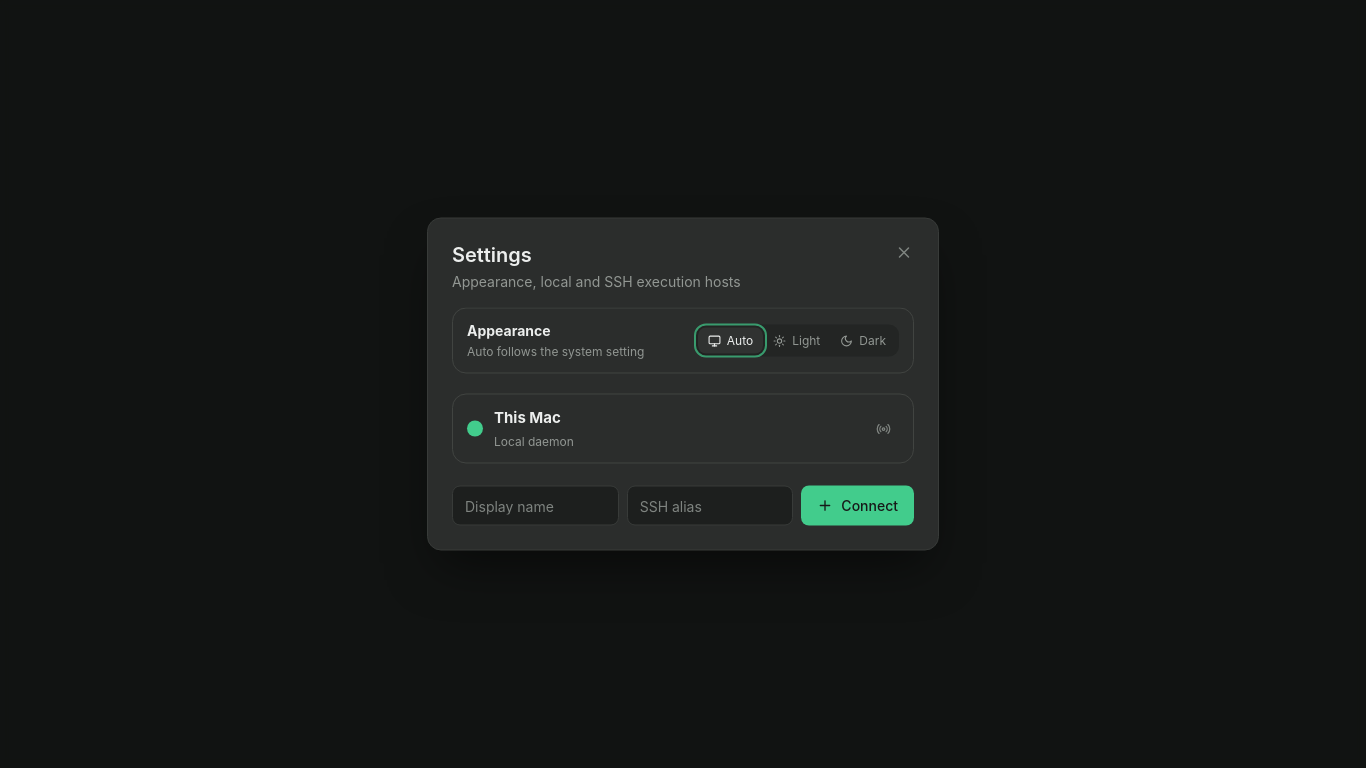
Test: ConnectionsDialog › reports a creation failure
The width and height of the screenshot is (1366, 768).
Type "nope" into the field labelled "SSH alias" at (710, 506), box [627,486,793,526]
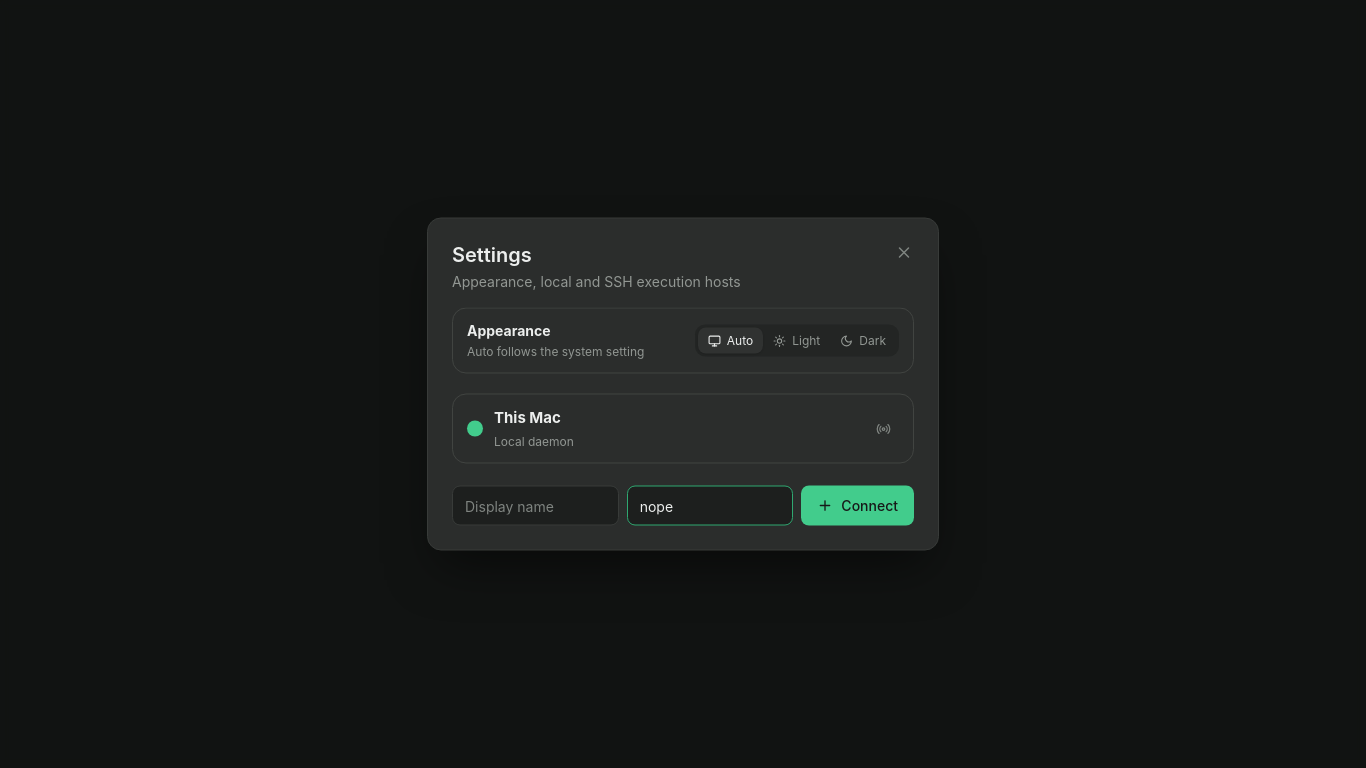
Click the button "Connect" at (858, 506), box [801,486,914,526]
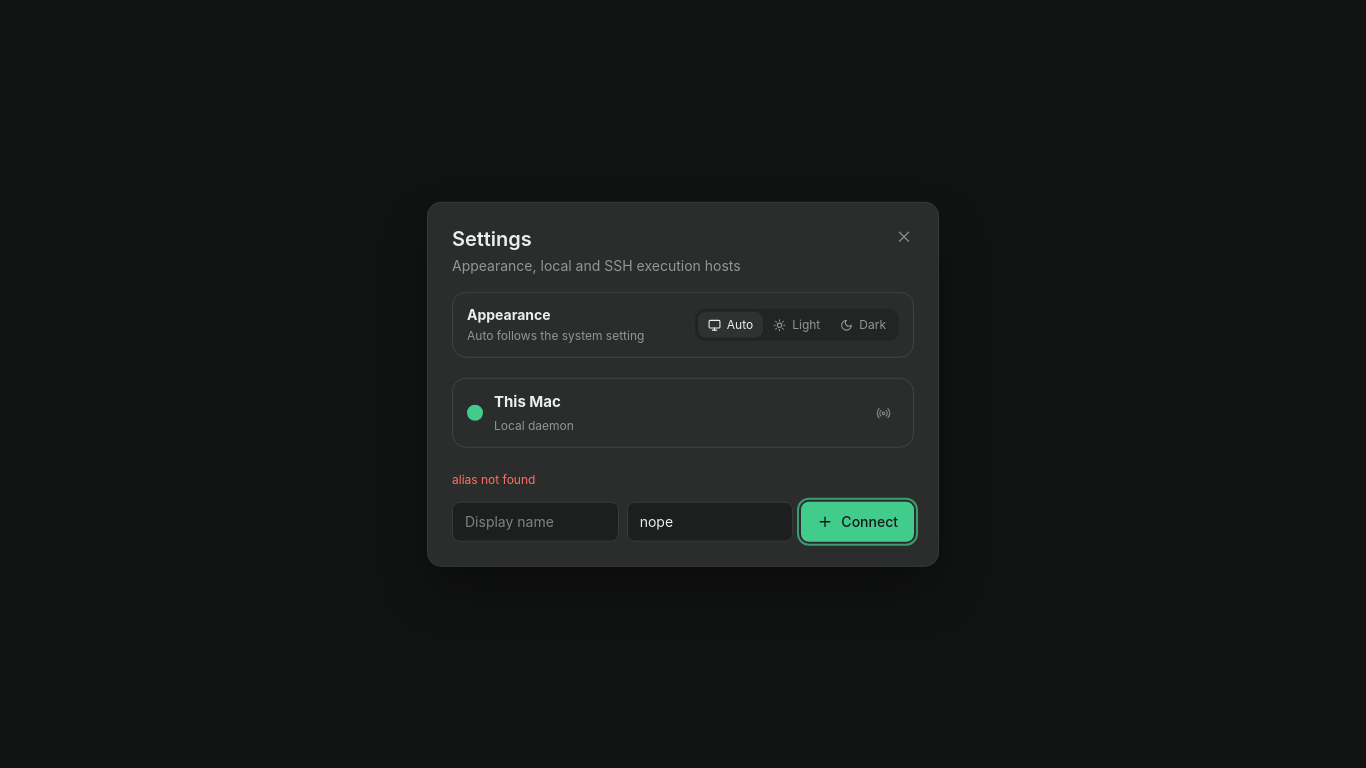
Expected: the text "alias not found" is shown, [452,472,535,487]
